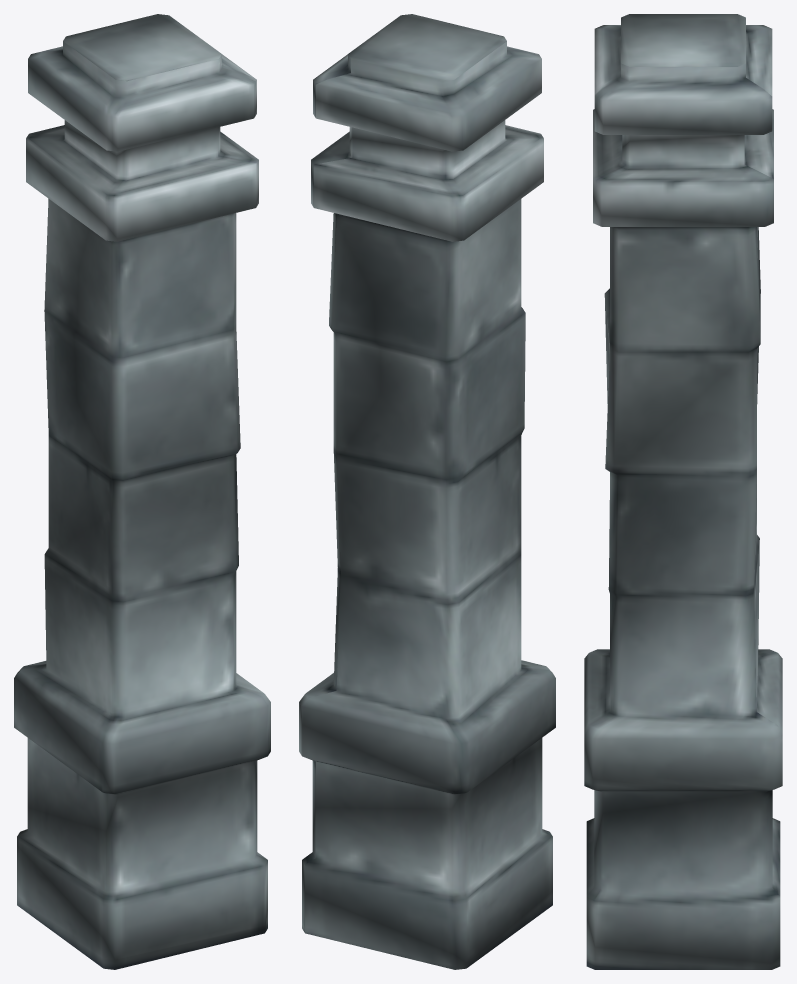
The model's file is env_cem_verja_columna.FBX.
3 views of the same model, side by side, from view 1: azimuth 30°, elevation 25°; view 2: azimuth 150°, elevation 25°; view 3: azimuth 270°, elevation 25° (orthographic). The views are drawn at different scales.
Visible parts, largest first — view 1: env_cem_verja_columna; view 2: env_cem_verja_columna; view 3: env_cem_verja_columna.
Boxes of the visible parts, bbox=[...] form: env_cem_verja_columna: bbox=[14, 14, 270, 969]; env_cem_verja_columna: bbox=[299, 14, 555, 969]; env_cem_verja_columna: bbox=[584, 14, 782, 969].
Bounding box in the file's own units: 118 × 581 × 118.
